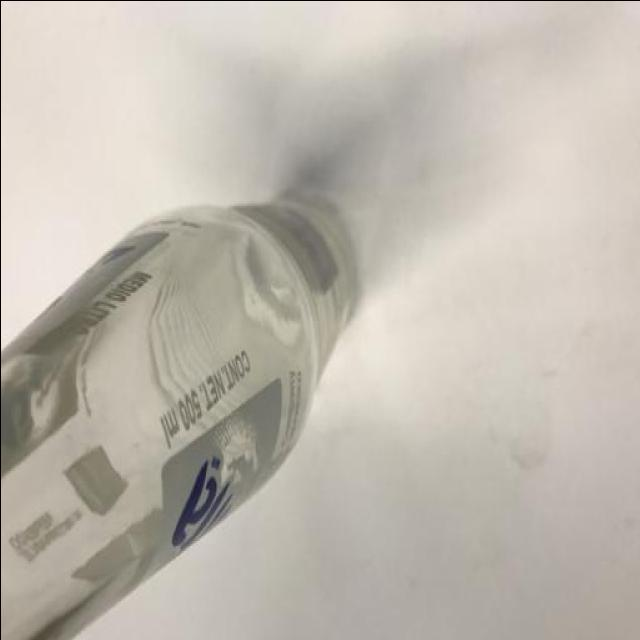glass: (0, 110, 344, 640)
